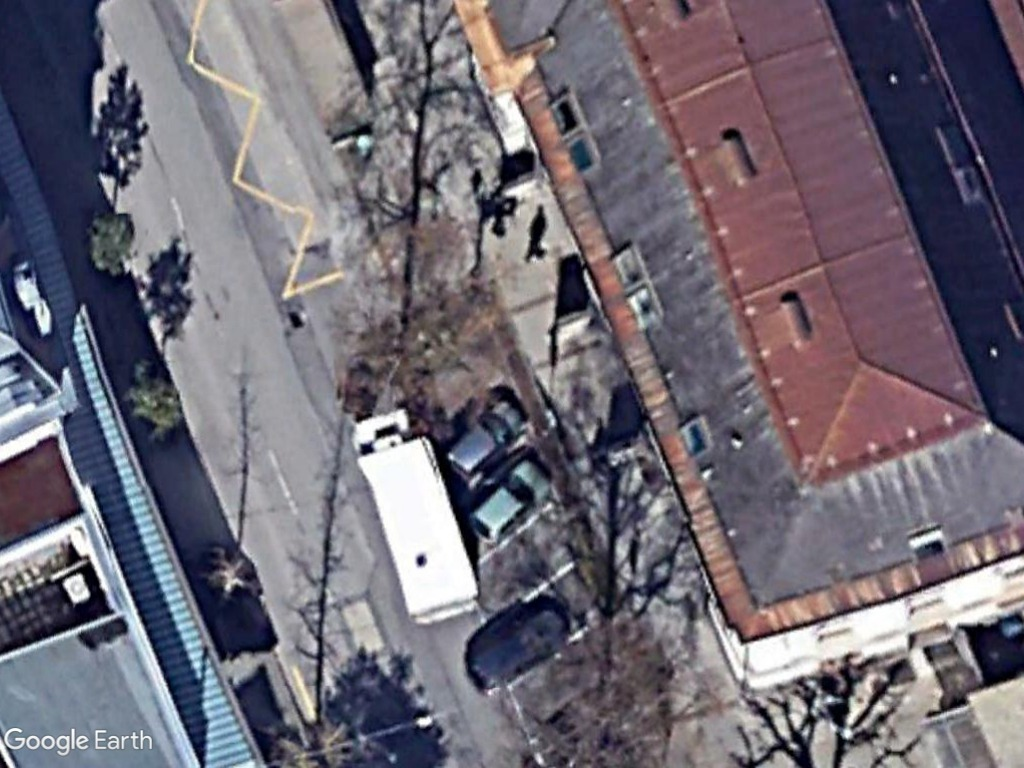car: (471, 458, 556, 549), (449, 397, 528, 483)
truck: (348, 408, 483, 629)
